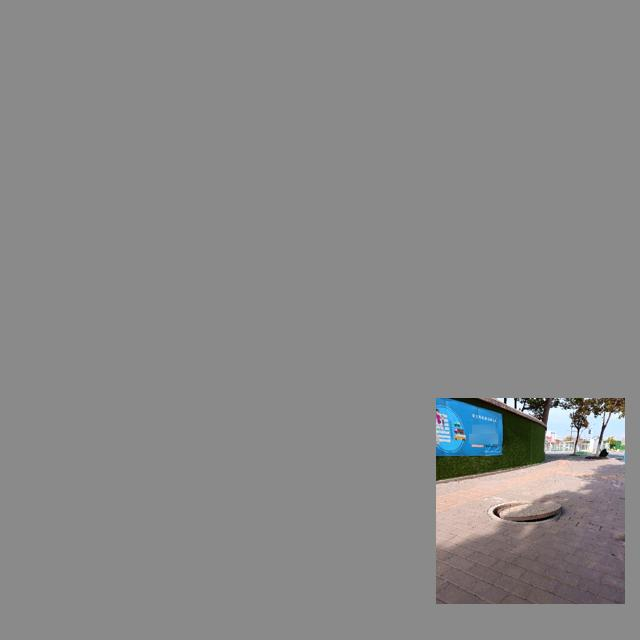uncovered: (487, 502, 562, 524)
